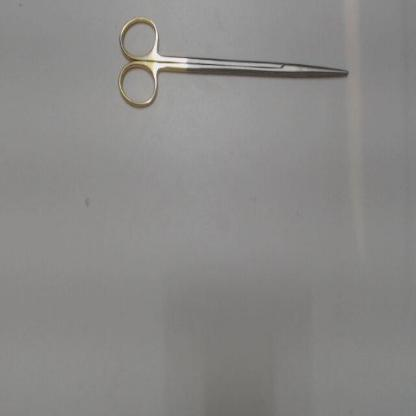7 Metzenbaum Scissors: (115, 12, 352, 115)
